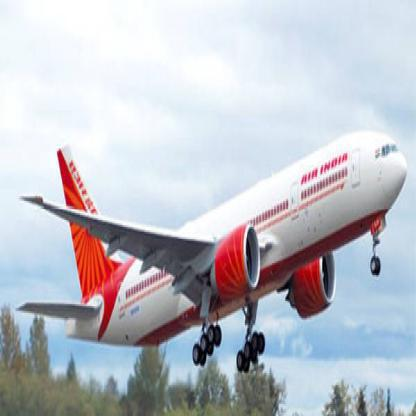CIV_Plane: (11, 120, 411, 375)
